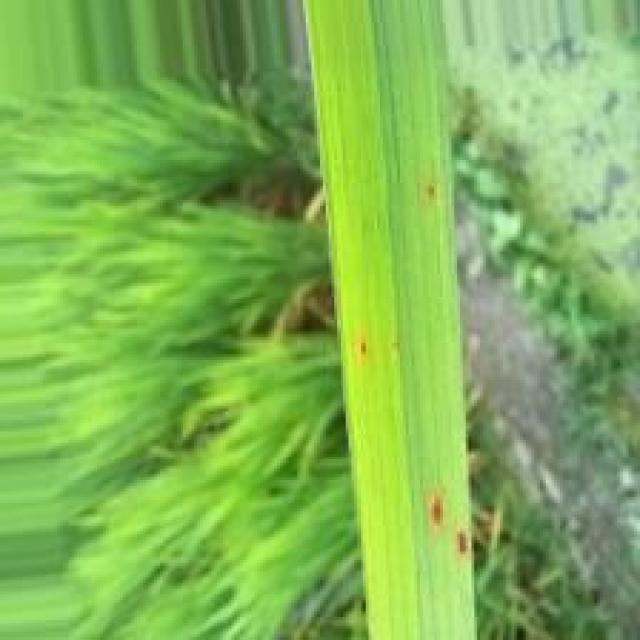Brown_Spot: (424, 490, 450, 537), (454, 527, 475, 566), (356, 338, 372, 364), (424, 180, 440, 205)
